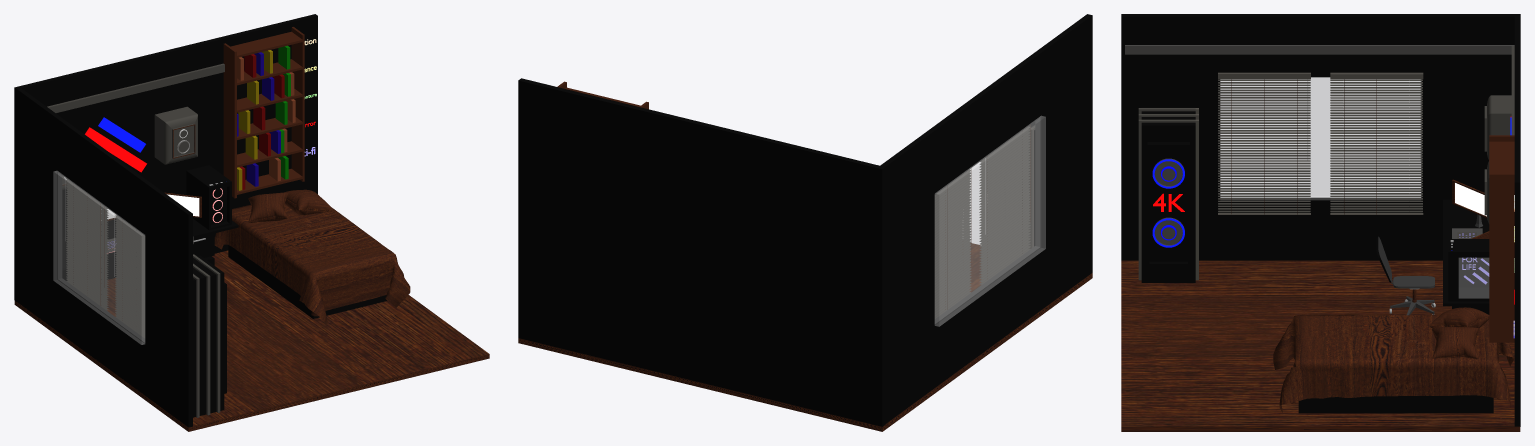
File: room.glb
3 views of the same model, side by side, from view 1: azimuth 30°, elevation 25°; view 2: azimuth 150°, elevation 25°; view 3: azimuth 270°, elevation 25° (orthographic). The views are drawn at different scales.
Visible parts, largest first — view 1: Cube.004_51, Cube_49, Cube.003_50, Plane.008_116, Plane.011_228, Shelves1_1, Venetian_slats.001_21, Cube.017_74, Venetian_slats_44, Cube.015_73, Cube.027_98, Cube.031_121 (+11 smaller); view 2: Cube.003_50, Cube.004_51, Plane.011_228, Venetian_slats_44, Venetian_slats.001_21, Cube_49; view 3: Cube.004_51, Cube_49, Plane.008_116, Venetian_slats.001_21, Venetian_slats_44, Plane.011_228, Cube.017_74, Shelves1_1, Cube.005_120, Cube.001_115, Cube.003_50, Cube.027_98 (+12 smaller).
Boxes of the visible parts, x1,y1,x2,y2 form: Cube.004_51: (17, 88, 192, 427); Cube_49: (14, 250, 489, 431); Cube.003_50: (14, 14, 317, 301); Plane.008_116: (214, 204, 410, 325); Plane.011_228: (53, 171, 144, 344); Shelves1_1: (223, 27, 304, 198); Venetian_slats.001_21: (66, 179, 108, 310); Cube.017_74: (193, 255, 226, 417); Venetian_slats_44: (115, 215, 145, 338); Cube.015_73: (154, 106, 197, 164); Cube.027_98: (186, 165, 231, 229); Cube.031_121: (47, 63, 224, 112); Cube.003_50: (518, 78, 885, 426); Cube.004_51: (880, 14, 1092, 423); Plane.011_228: (935, 116, 1045, 326); Venetian_slats_44: (979, 126, 1030, 284); Venetian_slats.001_21: (934, 169, 971, 318); Cube_49: (518, 243, 1092, 431); Cube.004_51: (1121, 14, 1514, 260); Cube_49: (1121, 260, 1520, 431); Plane.008_116: (1273, 314, 1513, 412); Venetian_slats.001_21: (1330, 79, 1422, 212); Venetian_slats_44: (1218, 79, 1310, 212); Plane.011_228: (1220, 77, 1420, 197); Cube.017_74: (1141, 107, 1195, 282); Shelves1_1: (1489, 135, 1514, 342); Cube.005_120: (1125, 45, 1514, 54); Cube.001_115: (1298, 395, 1493, 413); Cube.003_50: (1514, 14, 1520, 426); Cube.027_98: (1448, 239, 1489, 301).
Size of the model in its own units: 4.36 by 2.97 by 4.3.
Materials: 31 (1 with a texture image).
